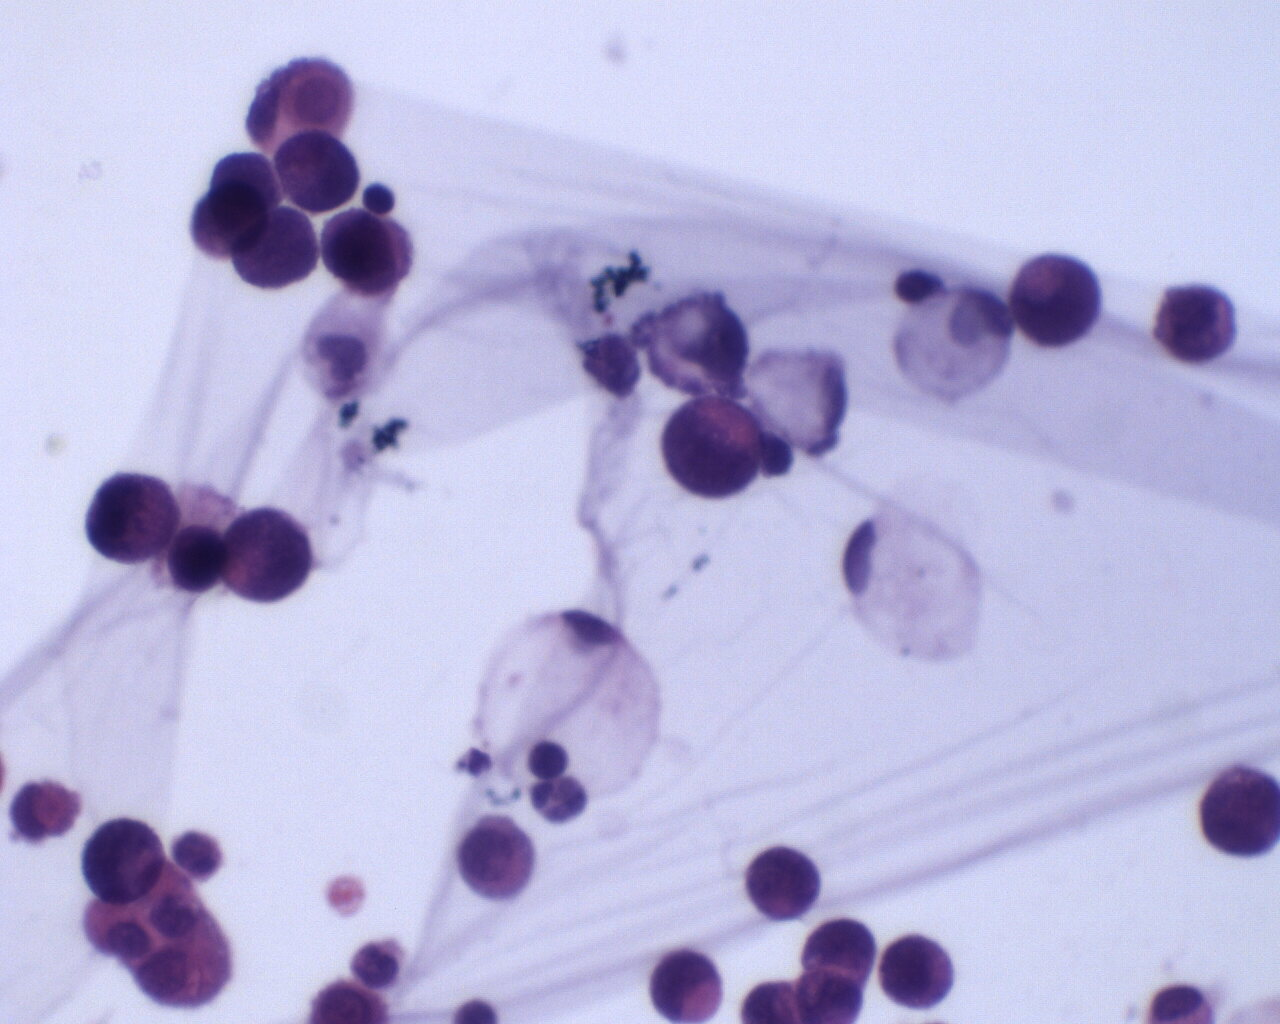ab: (660, 392, 764, 505), (315, 201, 420, 305), (1009, 249, 1104, 351), (222, 505, 316, 607), (76, 470, 176, 566), (1147, 278, 1241, 369), (1197, 757, 1280, 860), (74, 817, 167, 907), (234, 207, 325, 290), (275, 127, 359, 213), (877, 931, 961, 1011), (645, 946, 728, 1024), (747, 841, 822, 923), (799, 913, 878, 978)
histo: (478, 606, 668, 800), (833, 511, 984, 670), (892, 283, 1018, 402)
meso: (457, 816, 537, 903)
